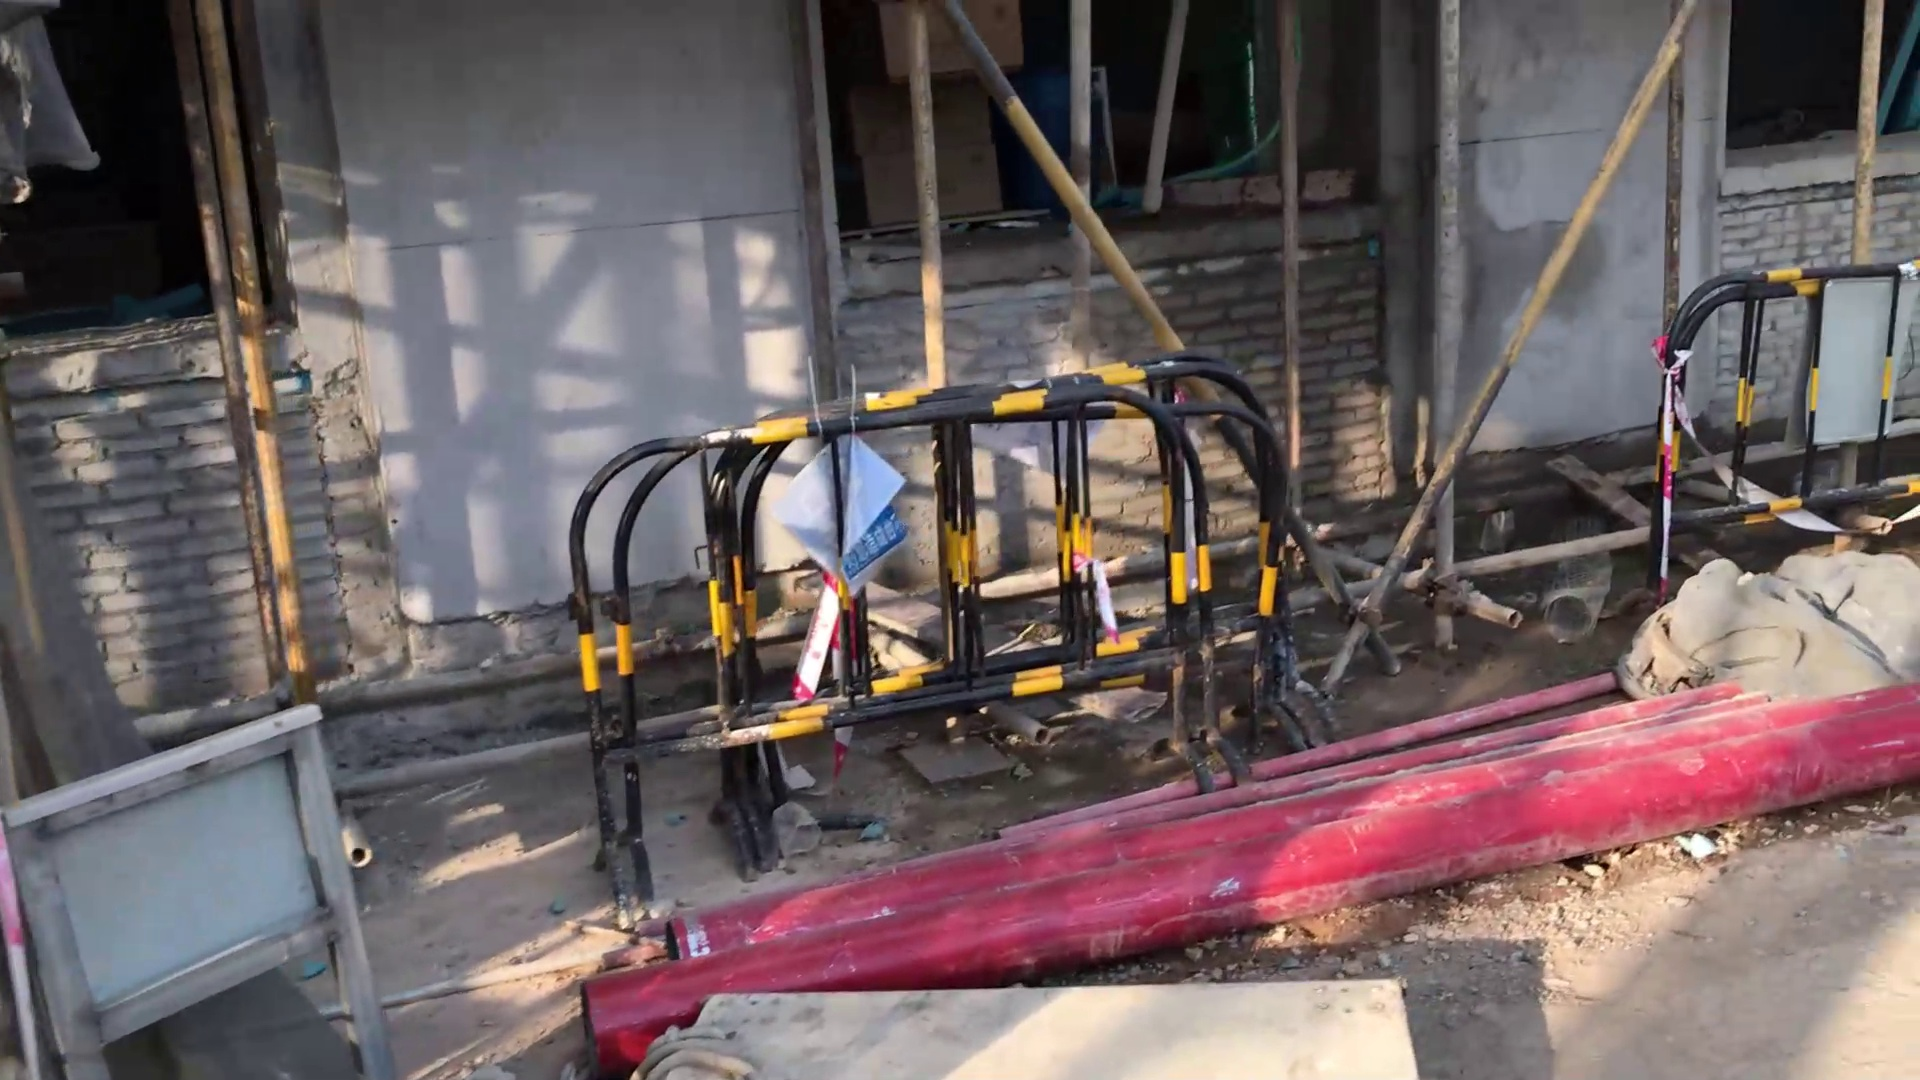fence: (563, 347, 1342, 905), (1619, 247, 1920, 616)
